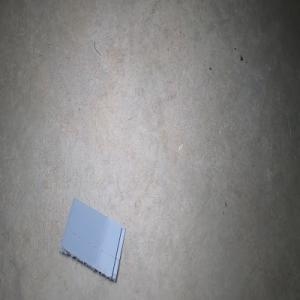PlasticPart: (58, 196, 126, 283)
